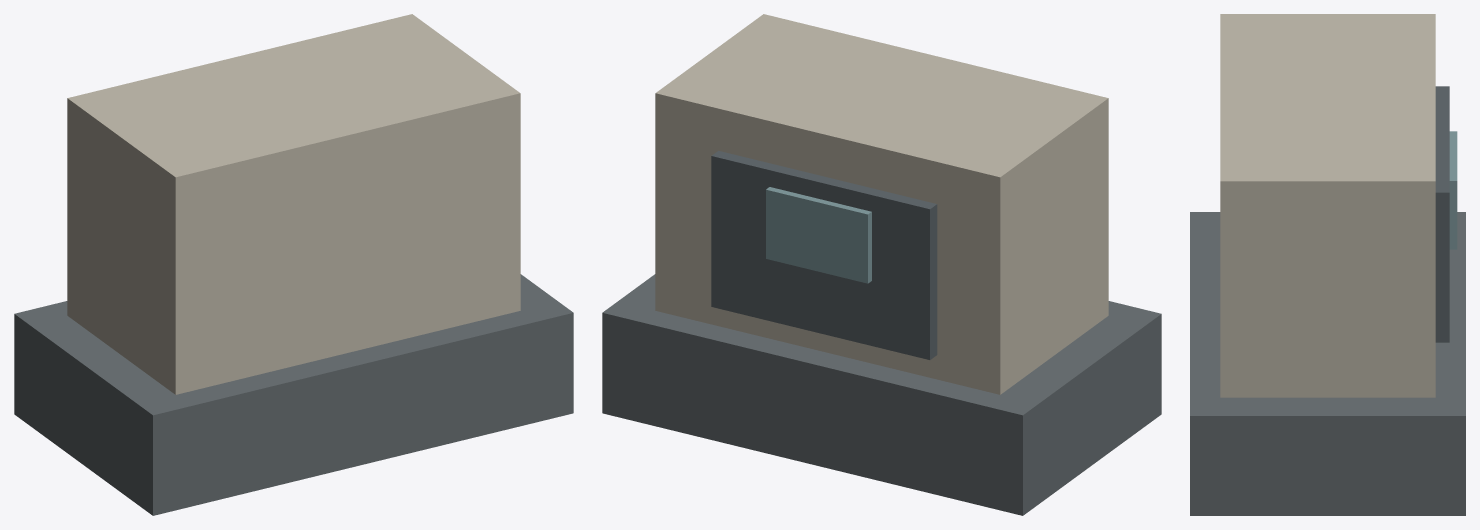
The model's file is iz3_production_kitchen_01.glb.
3 renders of one model, left to right at view 1: azimuth 30°, elevation 25°; view 2: azimuth 150°, elevation 25°; view 3: azimuth 270°, elevation 25°, orthographic.
Parts seen in each view (by area): view 1: cabinet, base; view 2: cabinet, base, panel, display; view 3: cabinet, base, panel, display.
Part boxes in pixels (x1,y1,x2,y2): cabinet: (67,14,520,394); base: (14,274,573,515); cabinet: (655,14,1108,394); base: (602,274,1161,515); panel: (711,151,937,359); display: (766,187,871,283); cabinet: (1220,14,1435,397); base: (1190,212,1465,515); panel: (1435,86,1449,342); display: (1449,131,1457,249).
Size of the model in its own units: 1.4 by 1.01 by 0.8.
